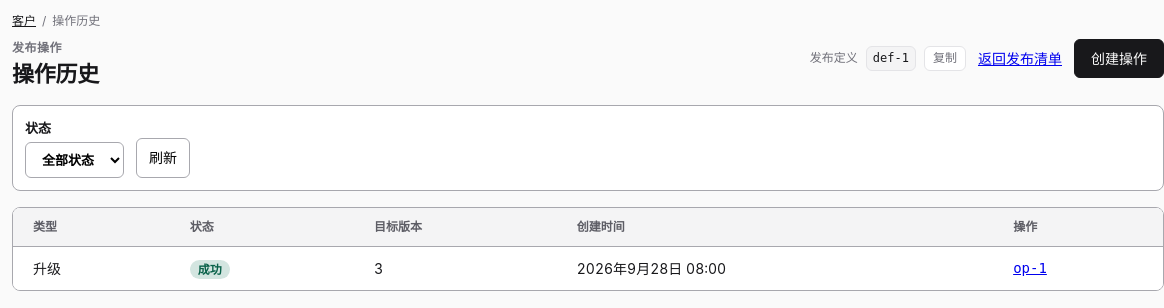
OperationListPage › re-queries with the selected status filter
The image size is (1164, 308).
Select "进行中" in the dropdown named "status" at coordinates (74, 160), box left=25, top=142, right=124, bottom=178
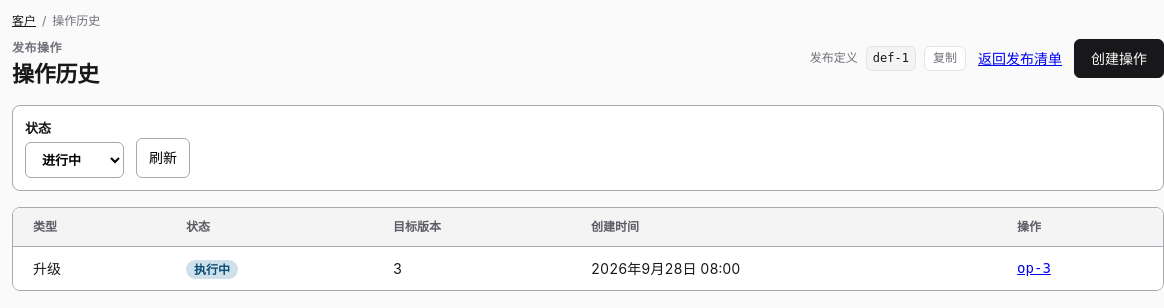
Result: the row with test id "operation-row-op-3" shows "执行中" at left=194, top=262, right=230, bottom=277
